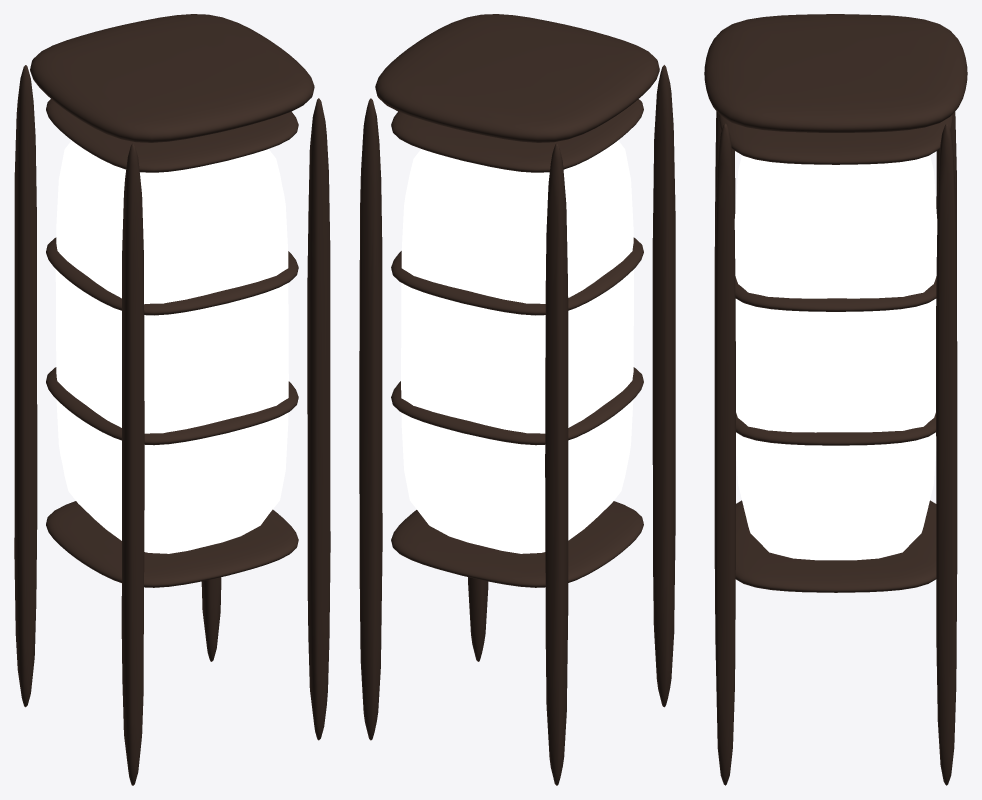
Rendered from deco_farol_papel.glb.
3 views of the same model, side by side, from view 1: azimuth 30°, elevation 25°; view 2: azimuth 150°, elevation 25°; view 3: azimuth 270°, elevation 25° (orthographic). The views are drawn at different scales.
Visible parts, largest first — view 1: papel farol.001, tapa farol.001, pata farol 1-1.001, pata farol -11.001, pata farol -1-1.001, listón 0.001, listón 3.001, listón 2.001, listón 1.001, pata farol 11.001; view 2: papel farol.001, tapa farol.001, pata farol 11.001, pata farol -11.001, pata farol -1-1.001, listón 0.001, listón 3.001, listón 2.001, listón 1.001, pata farol 1-1.001; view 3: papel farol.001, tapa farol.001, pata farol 11.001, pata farol 1-1.001, listón 0.001, listón 3.001, listón 2.001, listón 1.001, pata farol -1-1.001, pata farol -11.001.
Boxes of the visible parts, <box> form: papel farol.001: <box>55,140,288,553</box>; tapa farol.001: <box>30,14,314,142</box>; pata farol 1-1.001: <box>307,98,330,740</box>; pata farol -11.001: <box>14,65,37,707</box>; pata farol -1-1.001: <box>121,143,144,785</box>; listón 0.001: <box>46,501,298,587</box>; listón 3.001: <box>46,99,298,172</box>; listón 2.001: <box>46,237,298,315</box>; listón 1.001: <box>46,367,298,445</box>; pata farol 11.001: <box>201,577,221,661</box>; papel farol.001: <box>401,140,633,553</box>; tapa farol.001: <box>375,14,659,142</box>; pata farol 11.001: <box>359,98,382,740</box>; pata farol -11.001: <box>545,143,568,785</box>; pata farol -1-1.001: <box>652,65,675,707</box>; listón 0.001: <box>391,501,643,587</box>; listón 3.001: <box>391,99,643,172</box>; listón 2.001: <box>391,237,643,315</box>; listón 1.001: <box>391,367,643,445</box>; pata farol 1-1.001: <box>468,577,488,661</box>; papel farol.001: <box>734,155,937,560</box>; tapa farol.001: <box>704,14,967,132</box>; pata farol 11.001: <box>936,123,957,785</box>; pata farol 1-1.001: <box>714,123,735,785</box>; listón 0.001: <box>735,500,936,592</box>; listón 3.001: <box>719,114,952,164</box>; listón 2.001: <box>735,276,936,311</box>; listón 1.001: <box>736,413,935,445</box>; pata farol -1-1.001: <box>714,111,735,302</box>; pata farol -11.001: <box>936,111,956,303</box>.
Size of the model in its own units: 0.3567 by 1.02 by 0.3567.
